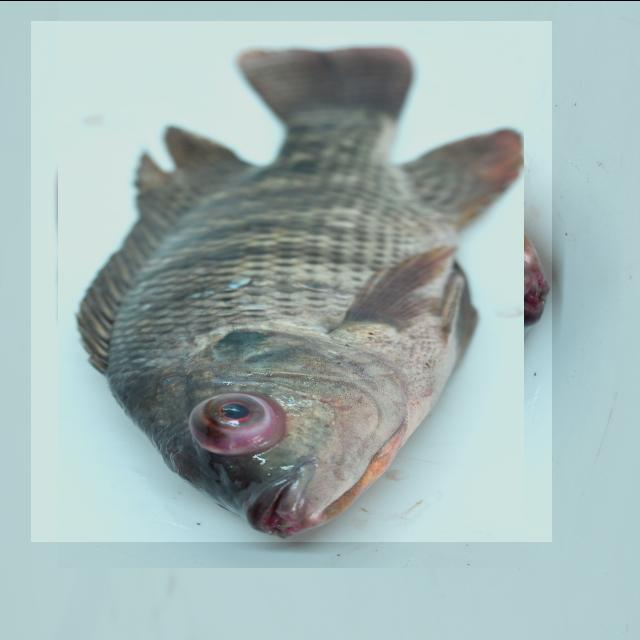Columnaris Disease: (31, 20, 552, 541)
